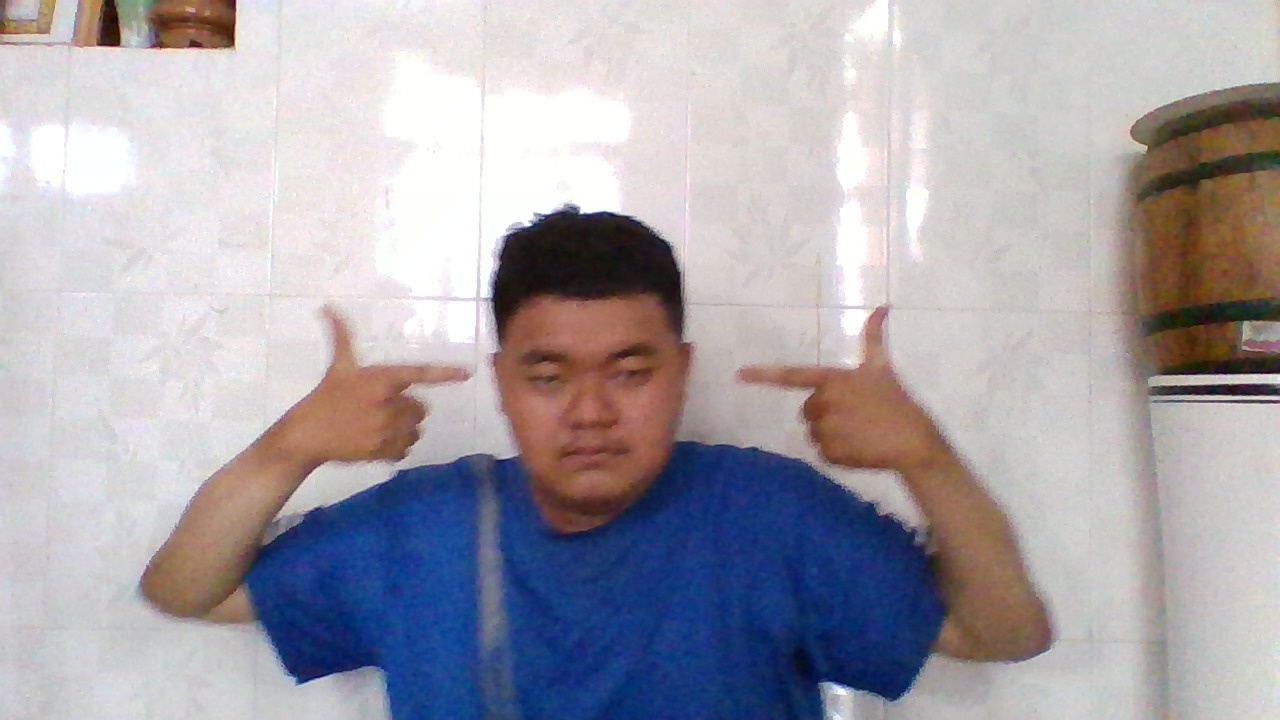G: (723, 295, 931, 471), (287, 300, 483, 468)
